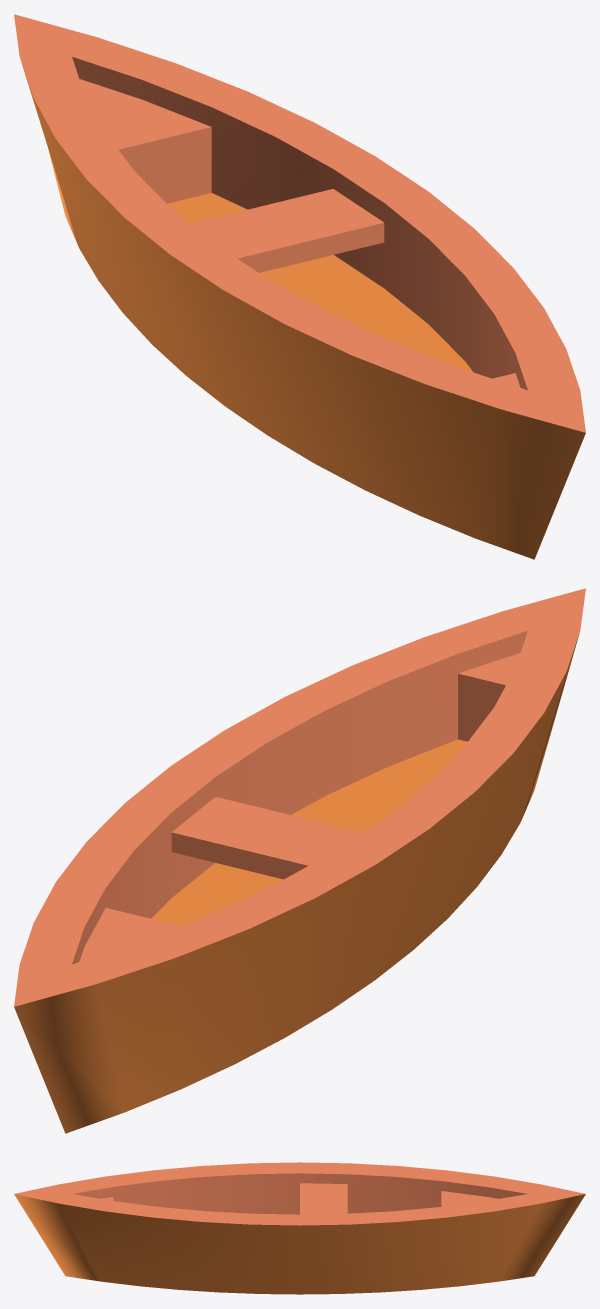
Rendered from canoe.glb.
3 views of the same model, one above another, from view 1: azimuth 30°, elevation 25°; view 2: azimuth 150°, elevation 25°; view 3: azimuth 270°, elevation 25° (orthographic). The views are drawn at different scales.
Visible parts, largest first — view 1: canoe; view 2: canoe; view 3: canoe.
Boxes of the visible parts, bbox=[...] form: canoe: bbox=[14, 14, 585, 559]; canoe: bbox=[14, 588, 585, 1133]; canoe: bbox=[14, 1162, 585, 1294].
Bounding box in the file's own units: 0.3 × 0.1825 × 1.15.
